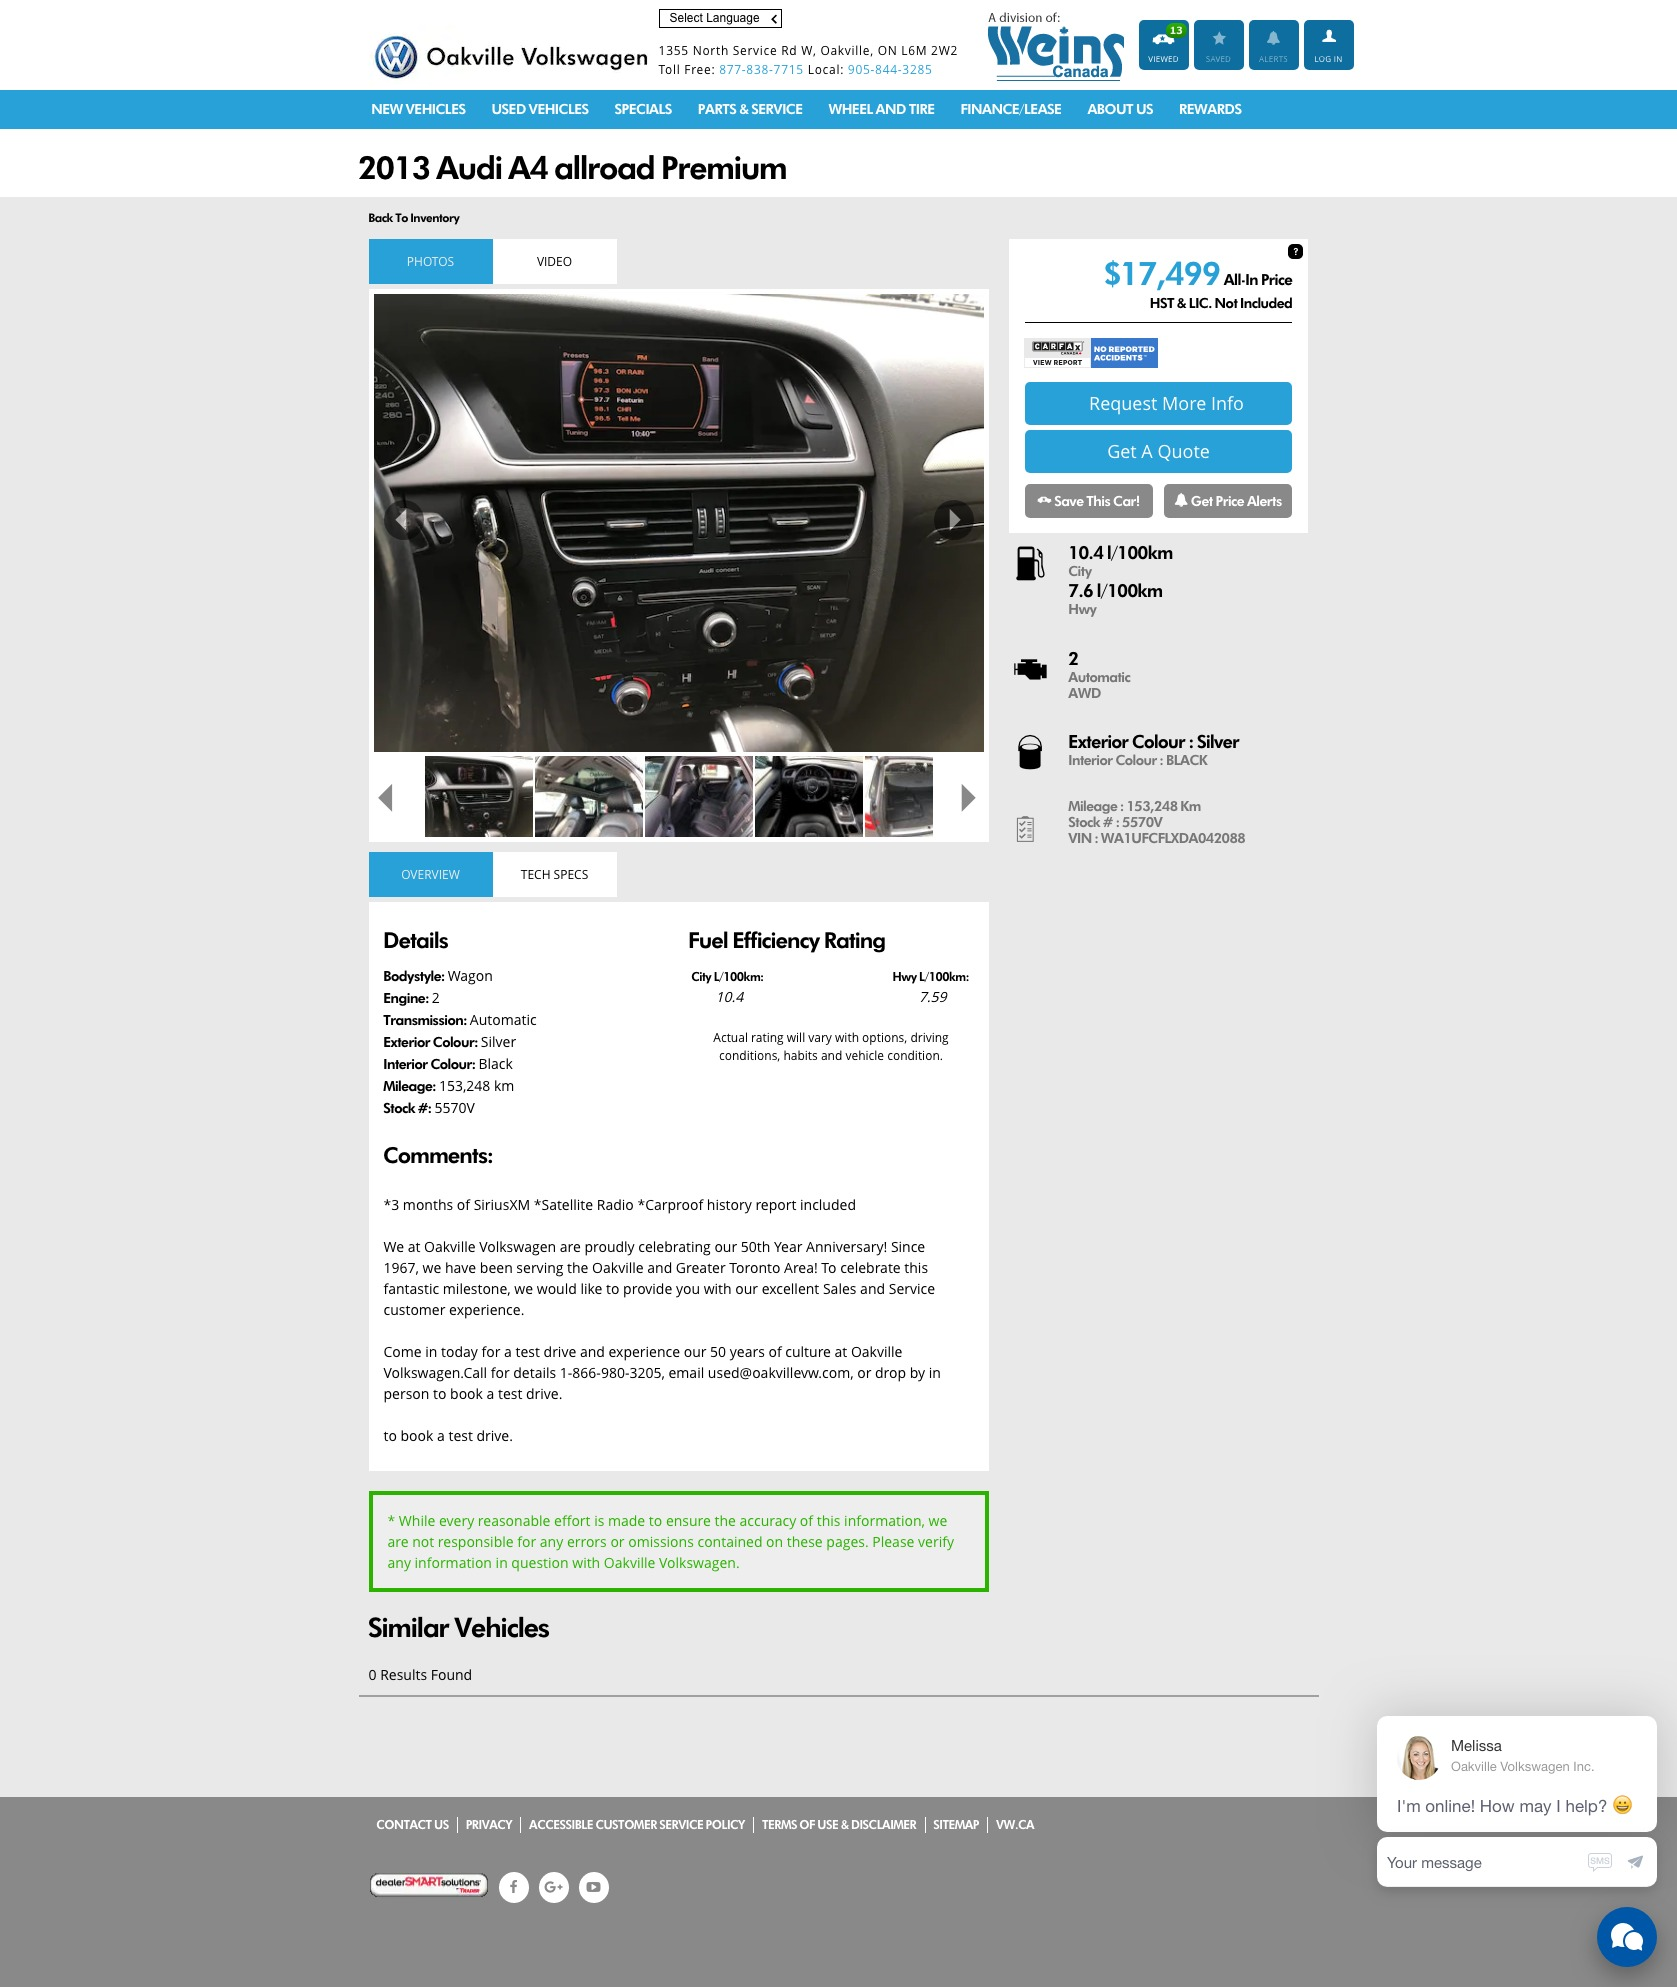car: (962, 784, 977, 814)
